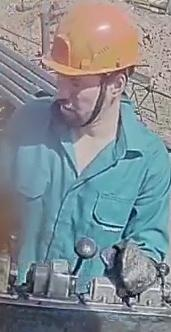gloves: (100, 236, 163, 297)
helmet: (39, 0, 141, 86)
vest: (10, 99, 170, 294)
